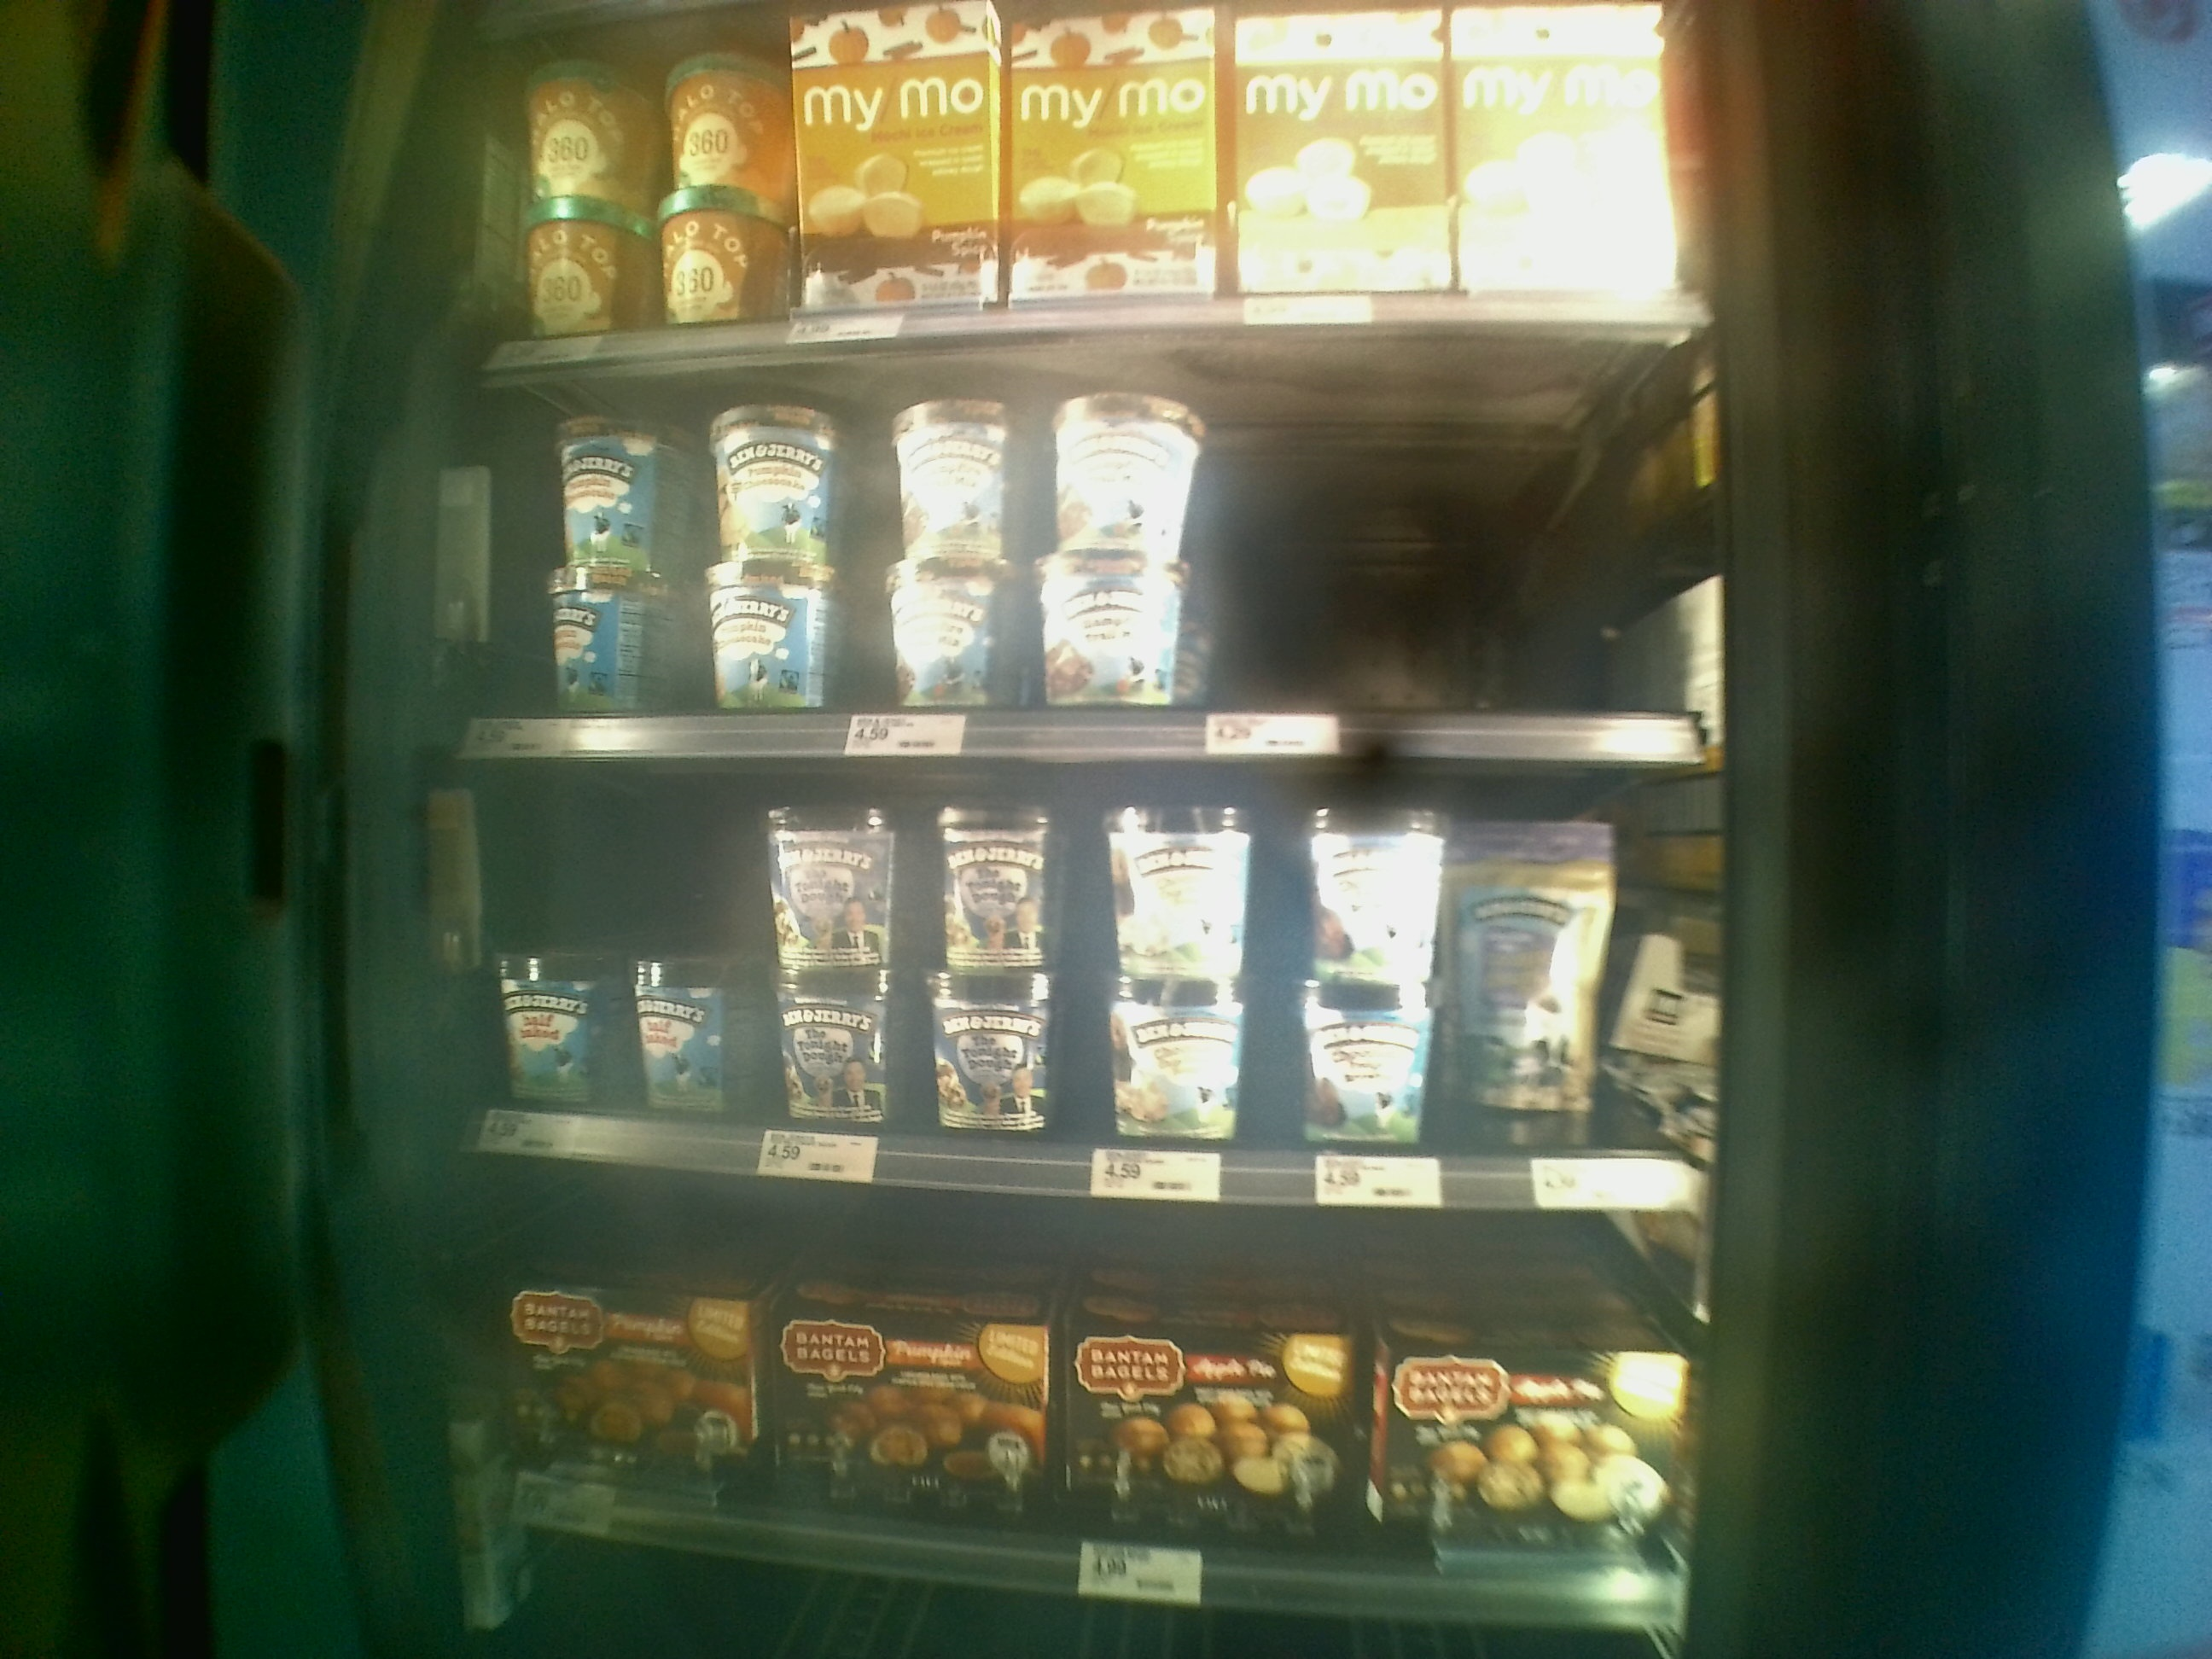shelf: (409, 1122, 1684, 1617), (415, 732, 1707, 1197), (435, 352, 1705, 760)
